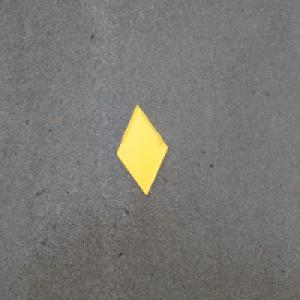PlasticPart: (116, 102, 169, 196)
